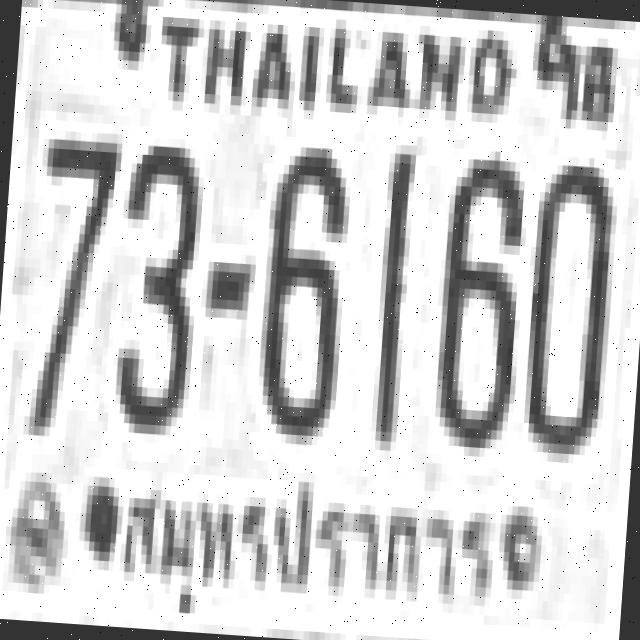0: (517, 154, 615, 446)
1: (366, 144, 414, 442)
3: (108, 134, 201, 426)
6: (428, 148, 526, 440), (255, 140, 348, 432)
7: (23, 129, 117, 430)
SamutPrakan: (109, 458, 505, 640)
